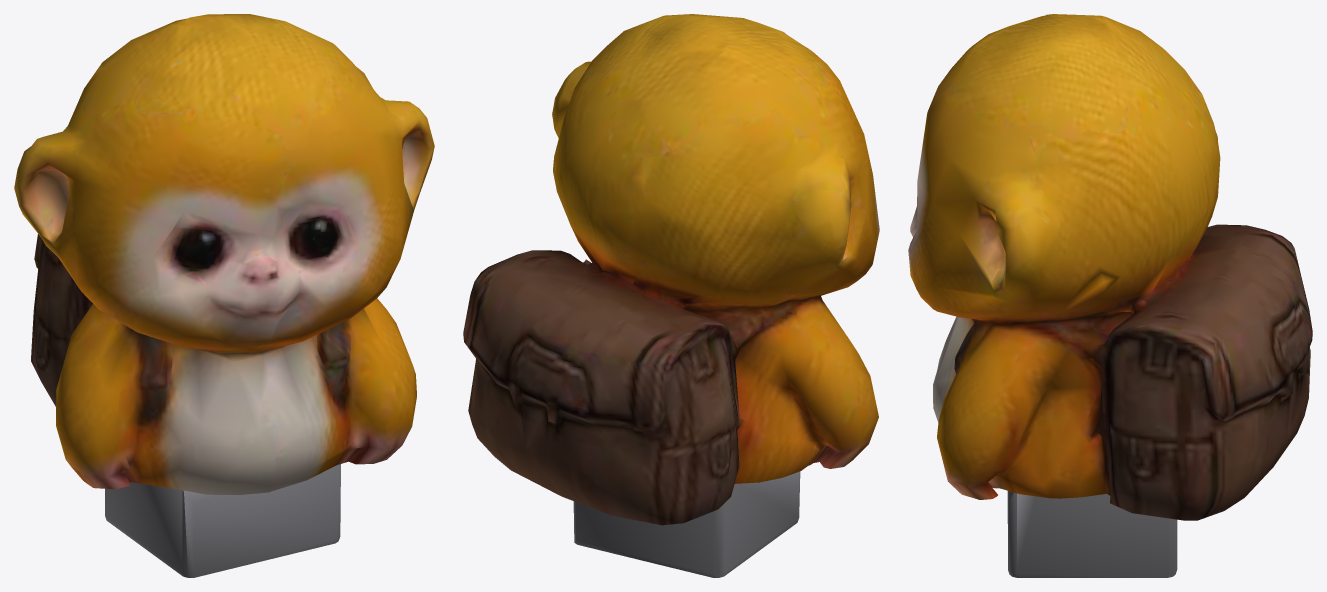
File: mono_media.glb
3 renders of one model, left to right at view 1: azimuth 30°, elevation 25°; view 2: azimuth 150°, elevation 25°; view 3: azimuth 270°, elevation 25°, orthographic. The views are drawn at different scales.
Parts seen in each view (by area): view 1: mono; view 2: mono; view 3: mono.
Part boxes in pixels (box(x1,y1,x2,y2)): mono: box(14, 14, 434, 577); mono: box(463, 14, 879, 577); mono: box(908, 14, 1312, 577).
Bounding box in the file's own units: 0.8552 × 1.18 × 0.8544.
Materials: 2 (1 with a texture image).
